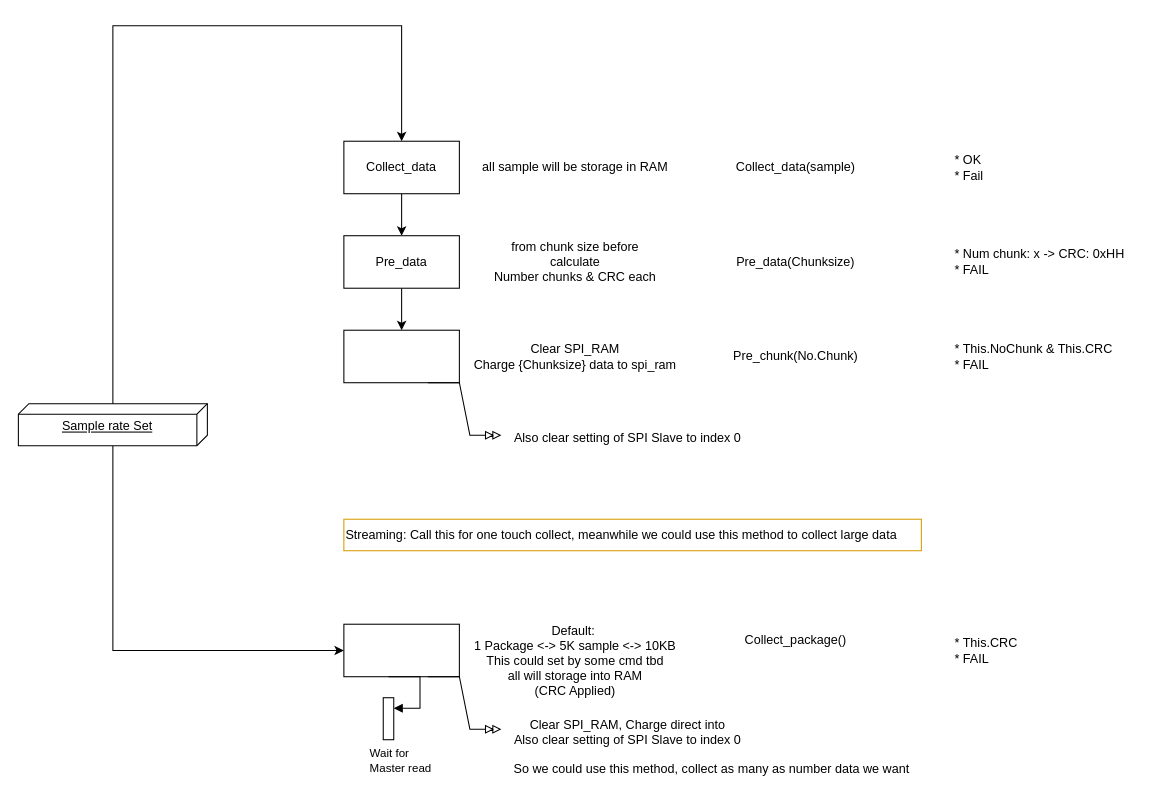
The diagram is 1171 pixels wide and 803 high, and some of its shapes have lost their labels. The shapes that lost their labels are listed below. From the top down, each one's centre as x and y in pixels, then its label:
At (401,356): "Pre_chunk".
At (401,650): "Collect_package".
